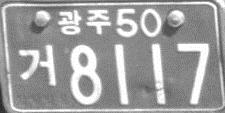0: (140, 6, 163, 40)
1: (147, 41, 170, 105), (111, 41, 130, 105)
5: (114, 6, 138, 38)
7: (174, 41, 210, 107)
8: (67, 42, 102, 106)
거: (18, 43, 58, 88)
광주_O: (55, 8, 112, 35)
